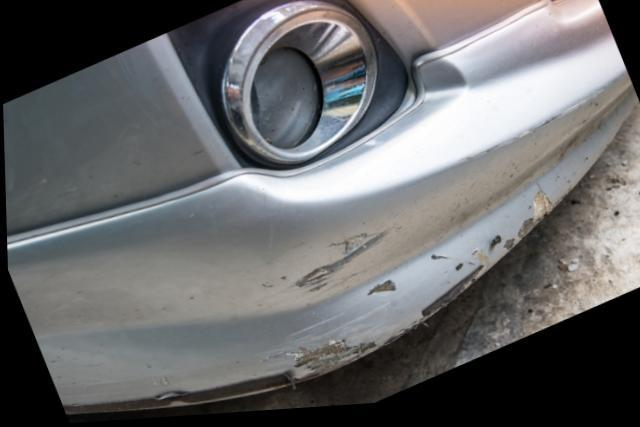scratch: (237, 95, 605, 394)
